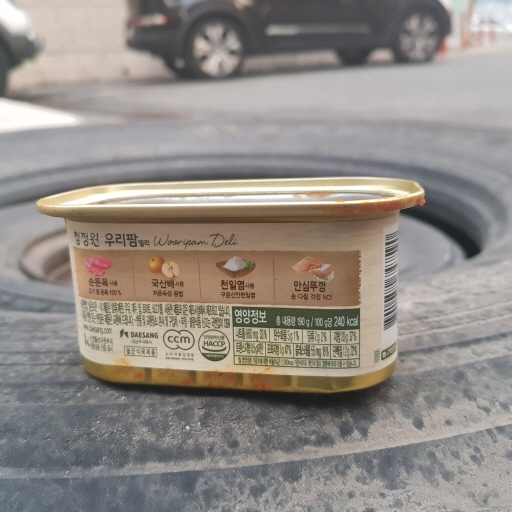Metal_2: (36, 180, 426, 391)
